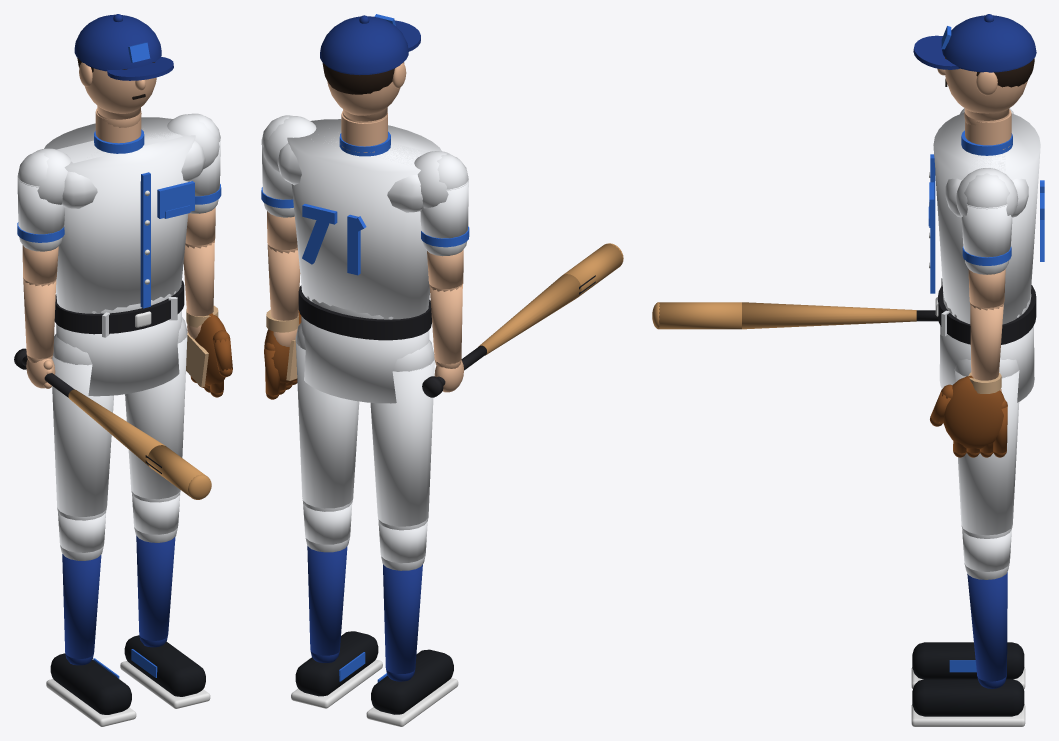
File: player.glb
3 renders of one model, left to right at view 1: azimuth 30°, elevation 25°; view 2: azimuth 150°, elevation 25°; view 3: azimuth 270°, elevation 25°, orthographic.
Parts seen in each view (by area): view 1: bb_player__torso, bb_player__shin_r, bb_player__shin_l, bb_player__pelvis, bb_player__thigh_r, bb_player__head, bb_player__thigh_l, bb_player__upper_arm_r, bb_player__bat, bb_player__glove, bb_player__forearm_r, bb_player__upper_arm_l (+1 smaller); view 2: bb_player__torso, bb_player__shin_r, bb_player__shin_l, bb_player__pelvis, bb_player__thigh_r, bb_player__head, bb_player__thigh_l, bb_player__upper_arm_r, bb_player__bat, bb_player__forearm_r, bb_player__upper_arm_l, bb_player__forearm_l (+1 smaller); view 3: bb_player__torso, bb_player__shin_l, bb_player__head, bb_player__bat, bb_player__thigh_l, bb_player__upper_arm_l, bb_player__glove, bb_player__pelvis, bb_player__shin_r, bb_player__forearm_l.
Boxes of the visible parts, left/top/right/bottom form: bb_player__torso: left=33, top=108, right=219, bottom=313; bb_player__shin_r: left=46, top=511, right=136, bottom=726; bb_player__shin_l: left=120, top=493, right=210, bottom=708; bb_player__pelvis: left=54, top=280, right=184, bottom=396; bb_player__thigh_r: left=52, top=334, right=113, bottom=520; bb_player__head: left=74, top=14, right=173, bottom=119; bb_player__thigh_l: left=125, top=317, right=187, bottom=502; bb_player__upper_arm_r: left=17, top=151, right=64, bottom=286; bb_player__bat: left=14, top=348, right=211, bottom=499; bb_player__glove: left=186, top=305, right=232, bottom=397; bb_player__forearm_r: left=23, top=280, right=56, bottom=388; bb_player__upper_arm_l: left=185, top=113, right=221, bottom=248; bb_player__torso: left=263, top=111, right=452, bottom=319; bb_player__shin_r: left=366, top=522, right=458, bottom=726; bb_player__shin_l: left=291, top=502, right=382, bottom=708; bb_player__pelvis: left=298, top=285, right=431, bottom=403; bb_player__thigh_r: left=370, top=340, right=434, bottom=530; bb_player__head: left=320, top=14, right=420, bottom=121; bb_player__thigh_l: left=295, top=323, right=359, bottom=511; bb_player__upper_arm_r: left=420, top=153, right=469, bottom=291; bb_player__bat: left=422, top=243, right=623, bottom=397; bb_player__forearm_r: left=429, top=284, right=463, bottom=392; bb_player__upper_arm_l: left=261, top=115, right=297, bottom=253; bb_player__forearm_l: left=267, top=245, right=300, bottom=346; bb_player__torso: left=928, top=108, right=1044, bottom=324; bb_player__shin_l: left=911, top=529, right=1025, bottom=726; bb_player__head: left=913, top=14, right=1036, bottom=120; bb_player__bat: left=652, top=302, right=938, bottom=329; bb_player__thigh_l: left=954, top=359, right=1019, bottom=538; bb_player__upper_arm_l: left=961, top=173, right=1012, bottom=310; bb_player__glove: left=930, top=372, right=1007, bottom=457; bb_player__pelvis: left=935, top=278, right=1036, bottom=402; bb_player__shin_r: left=911, top=642, right=1025, bottom=688; bb_player__forearm_l: left=970, top=303, right=1003, bottom=391.
Size of the model in its own units: 0.5609 by 1.83 by 0.9455.
